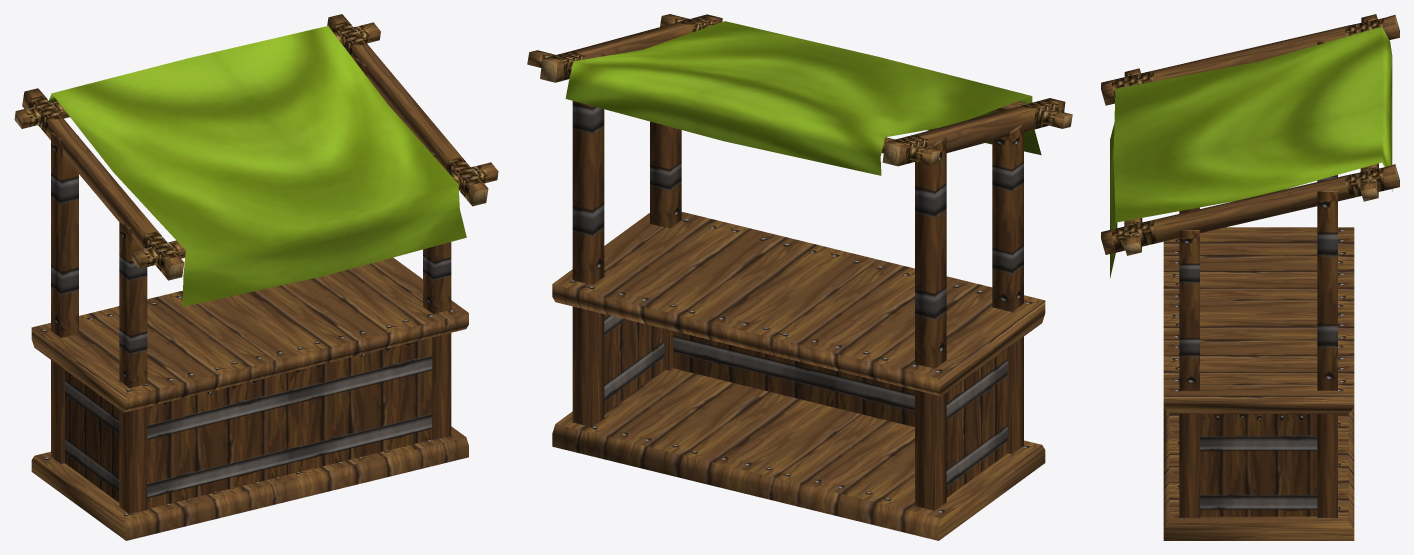
File: MarketPlace02A.fbx
The picture shows the model from 3 angles, left to right: view 1: azimuth 30°, elevation 25°; view 2: azimuth 150°, elevation 25°; view 3: azimuth 270°, elevation 25°; orthographic projection. The views are drawn at different scales.
Parts seen in each view (by area): view 1: MarketPlace02A; view 2: MarketPlace02A; view 3: MarketPlace02A.
Boxes of the visible parts, x1,y1,x2,y2 form: MarketPlace02A: [14, 14, 498, 540]; MarketPlace02A: [527, 14, 1072, 540]; MarketPlace02A: [1101, 14, 1399, 540].
Size of the model in its own units: 5.97 by 5.77 by 4.29.
